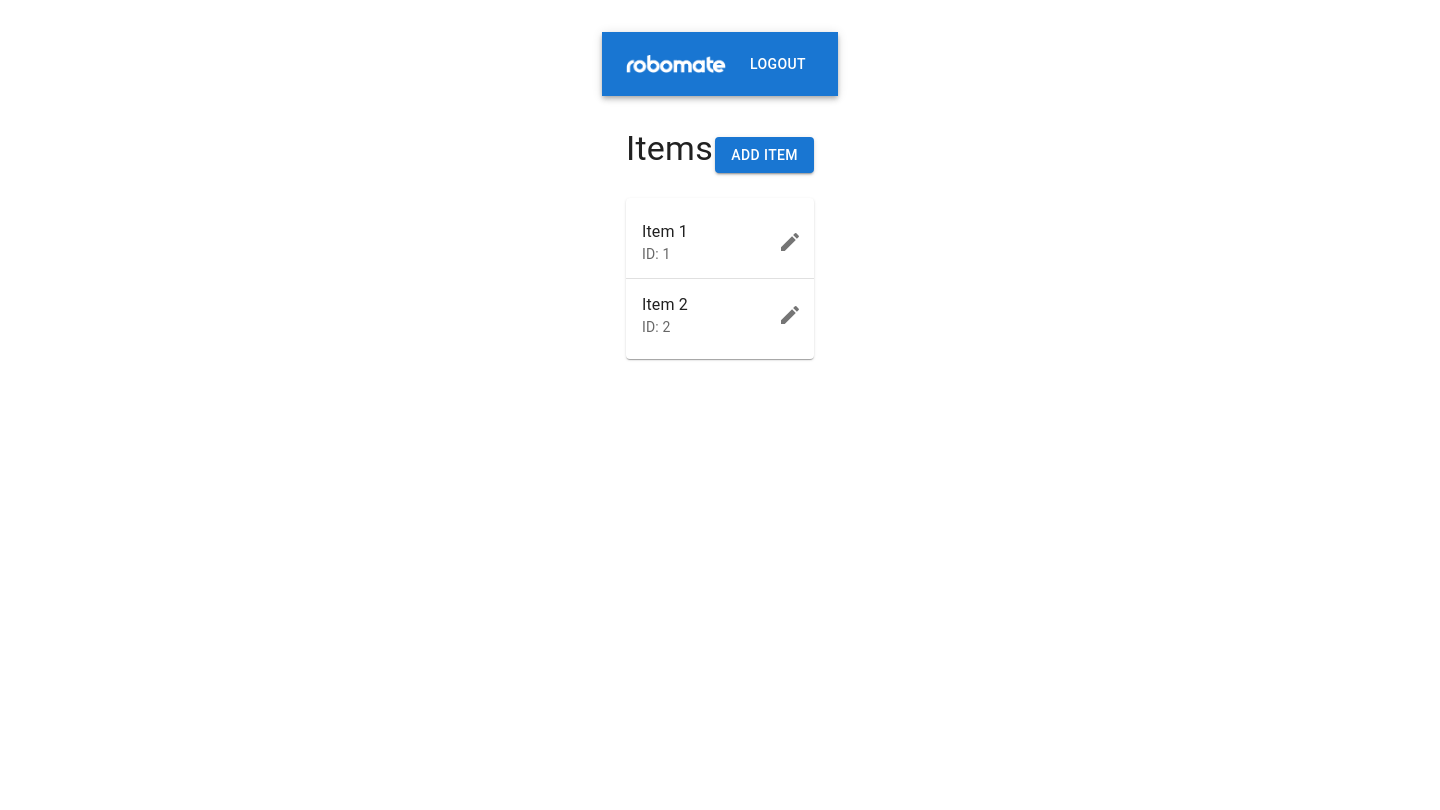
Test case: ItemsPage › opens dialog on "Add Item" click and adds a new item
Click the button "Add Item": (765, 155) left=715, top=137, right=814, bottom=173
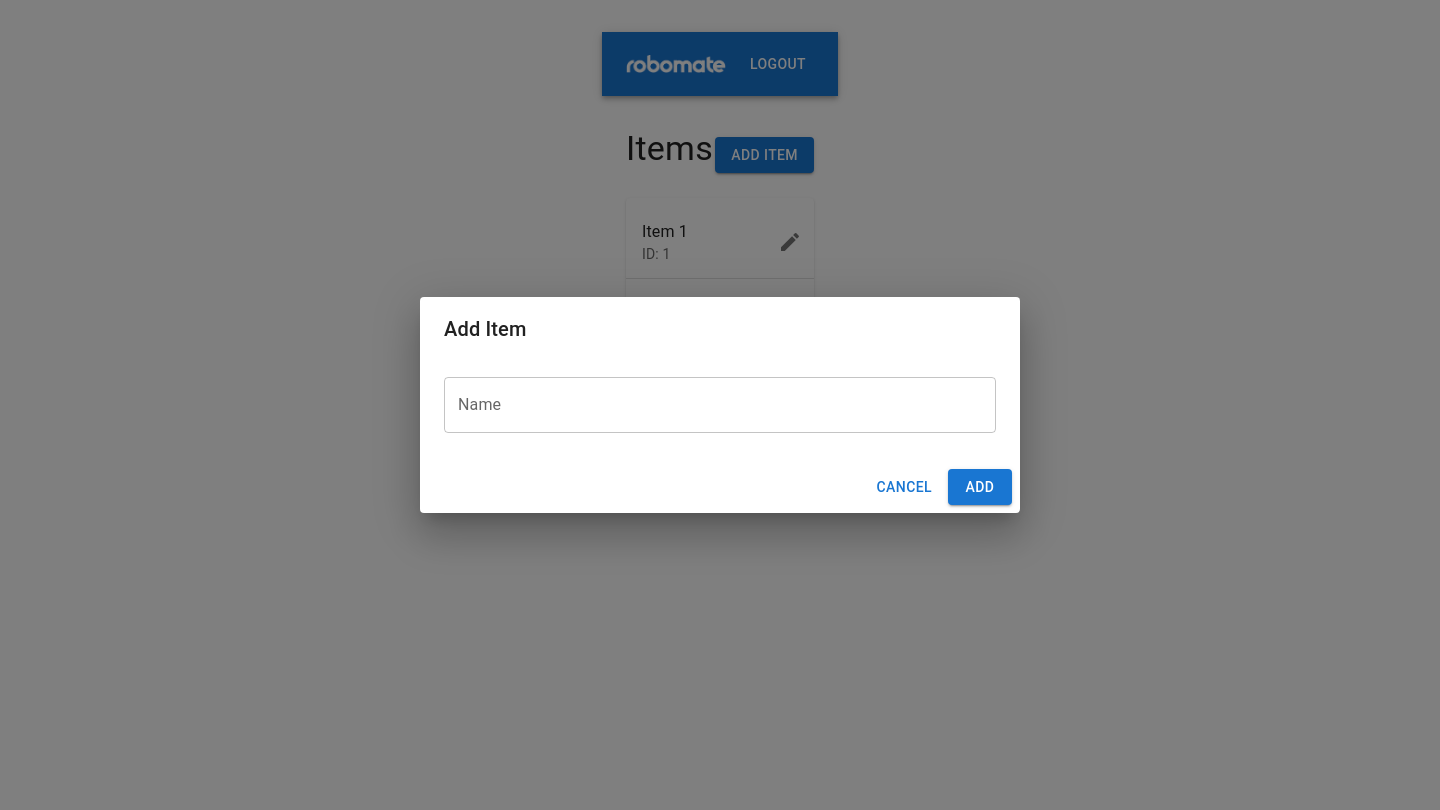
Check: the dialog is shown, box left=420, top=297, right=1020, bottom=513
In the field labelled "Name": (720, 405) left=444, top=377, right=996, bottom=433, type "Item 3"
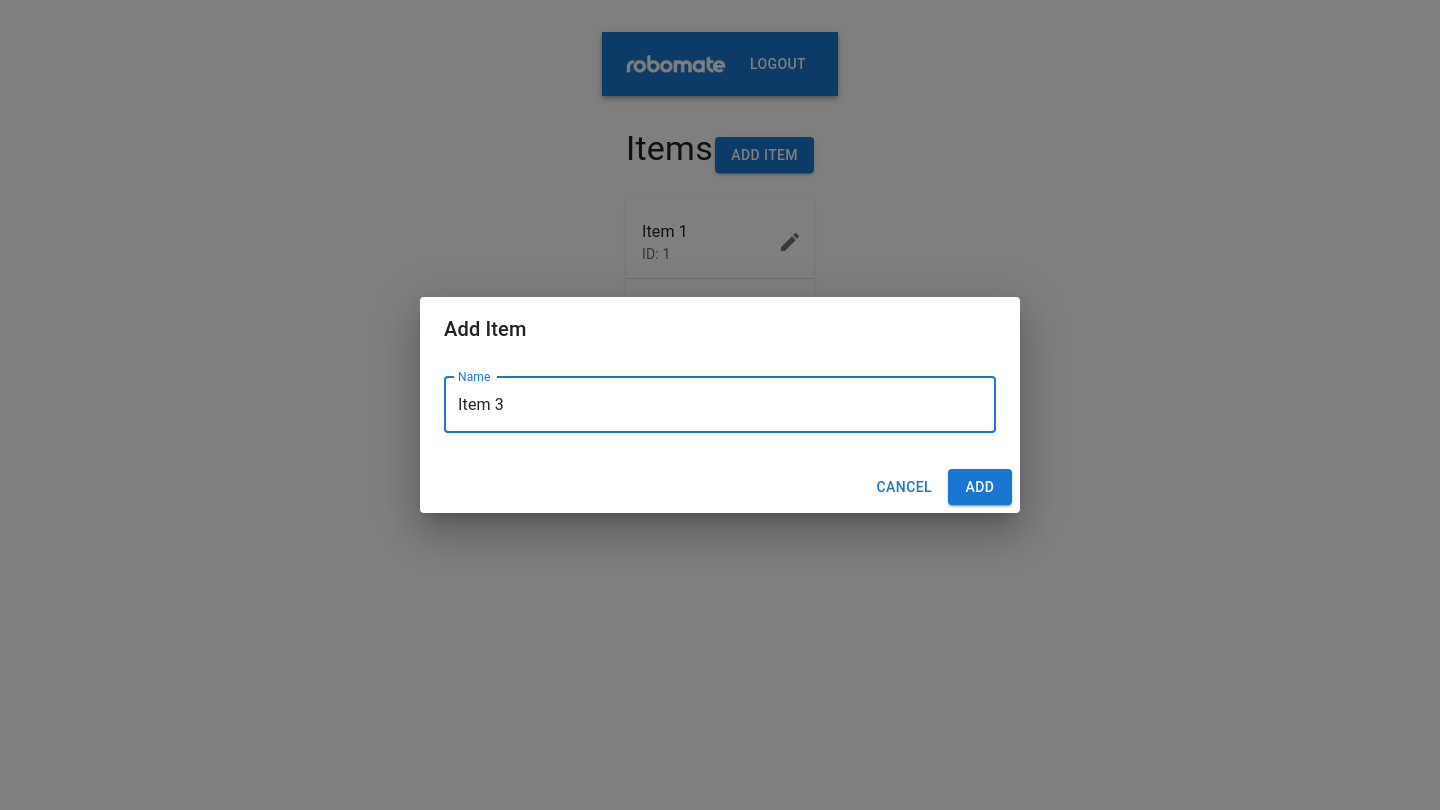
Click the button "Add": (980, 487) left=948, top=469, right=1012, bottom=505
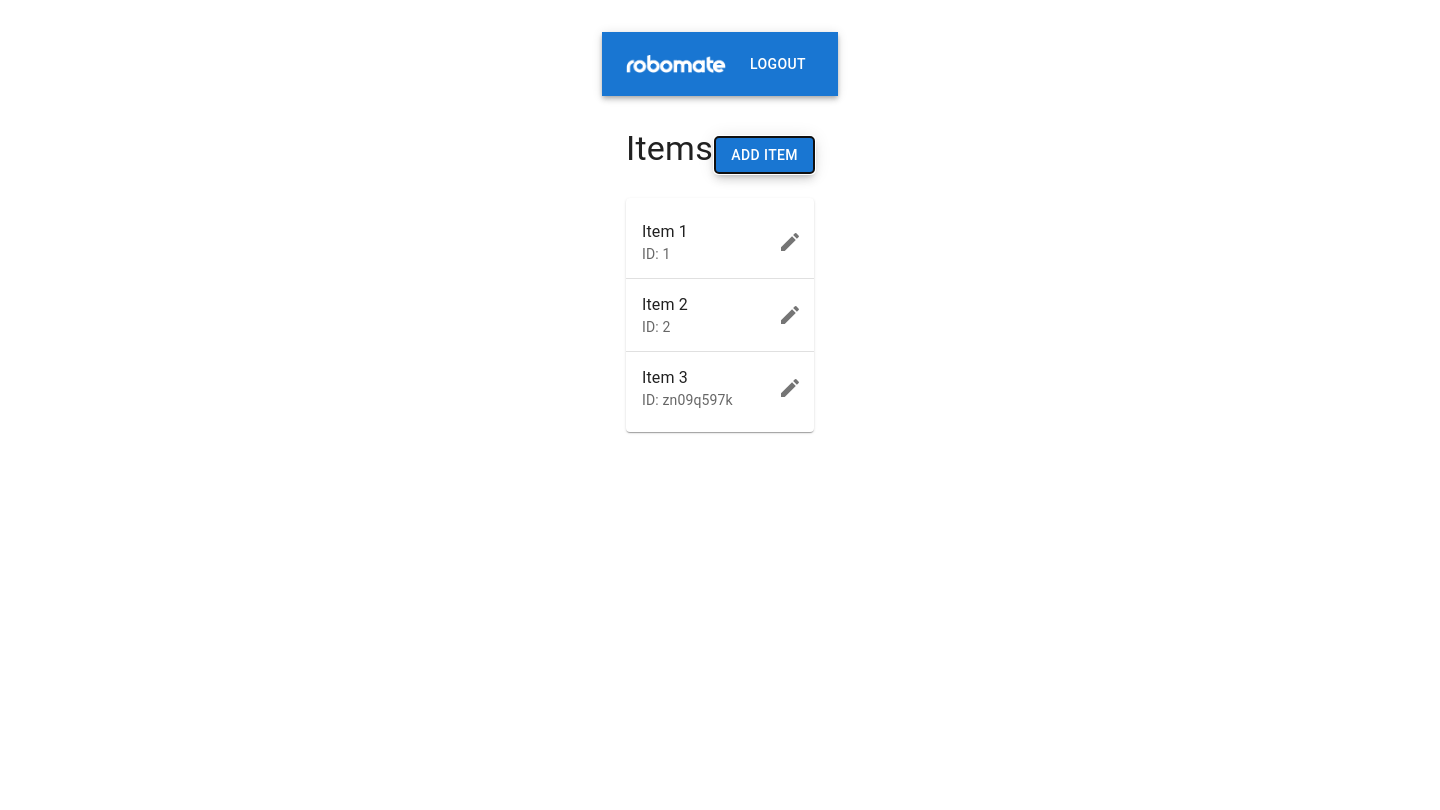
Check: the text "Item 3" is shown, box left=642, top=368, right=688, bottom=387
